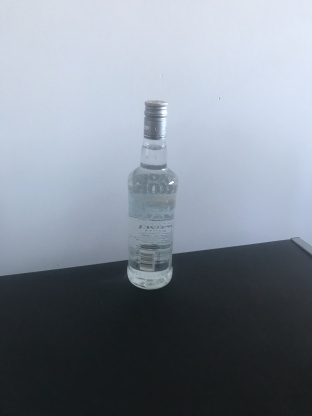nakretka: (142, 98, 169, 140)
